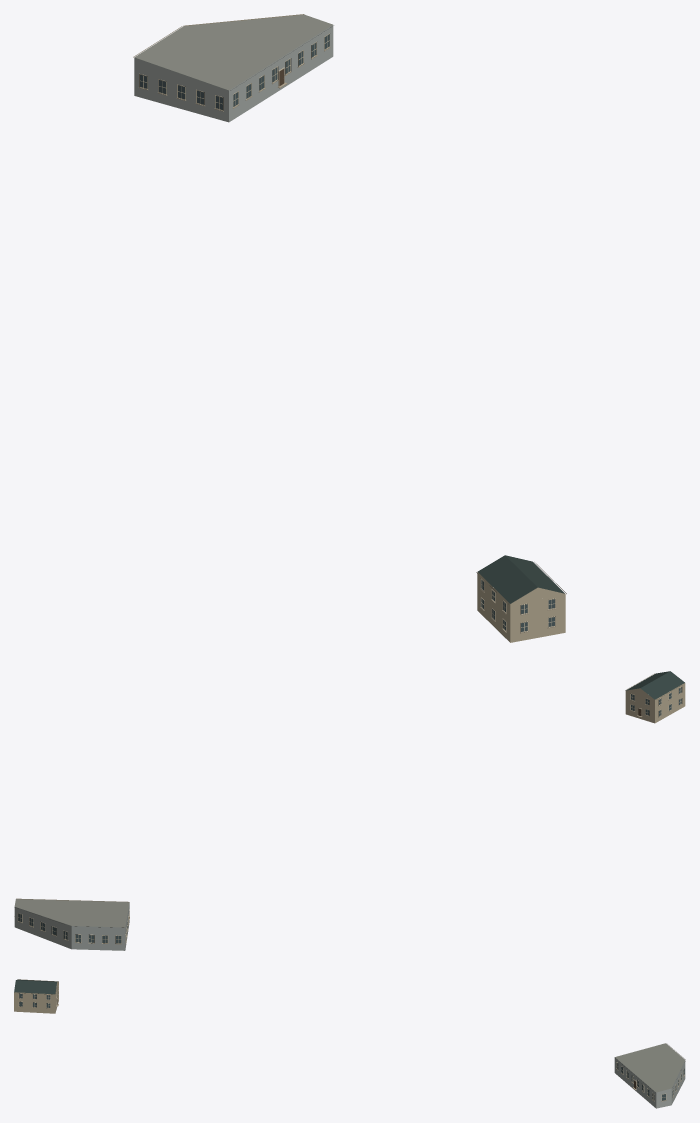
3 renders of one model, top to bottom at view 1: azimuth 30°, elevation 25°; view 2: azimuth 150°, elevation 25°; view 3: azimuth 270°, elevation 25°, orthographic. The views are drawn at different scales.
Parts seen in each view (by area): view 1: -6_-1_596654472_48, -6_-1_-11182_70; view 2: -6_-1_596654472_48, -6_-1_-11182_70; view 3: -6_-1_596654472_48, -6_-1_-11182_70.
Part boxes in pixels (x1,y1,x2,y2): -6_-1_596654472_48: [133, 14, 566, 633]; -6_-1_-11182_70: [477, 572, 565, 642]; -6_-1_596654472_48: [14, 671, 684, 950]; -6_-1_-11182_70: [625, 683, 685, 723]; -6_-1_596654472_48: [14, 979, 685, 1108]; -6_-1_-11182_70: [14, 981, 58, 1013].
Bounding box in the file's own units: 89.57 × 9.3 × 225.
